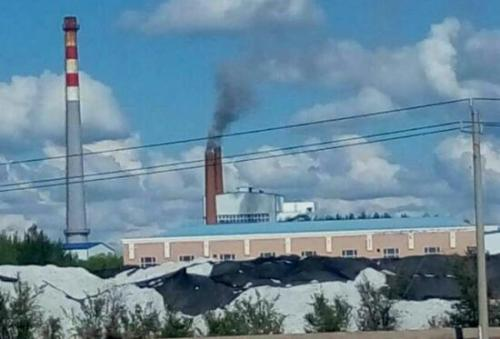smoke: (196, 58, 279, 151)
